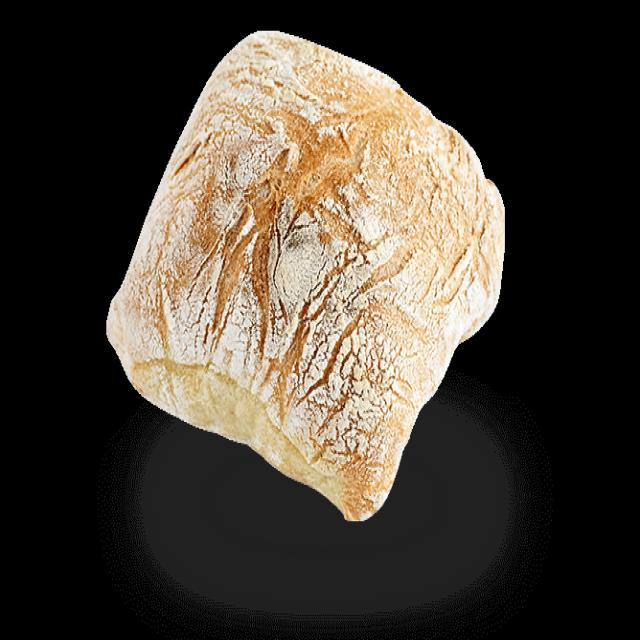Ciabatta: (107, 32, 503, 518)
